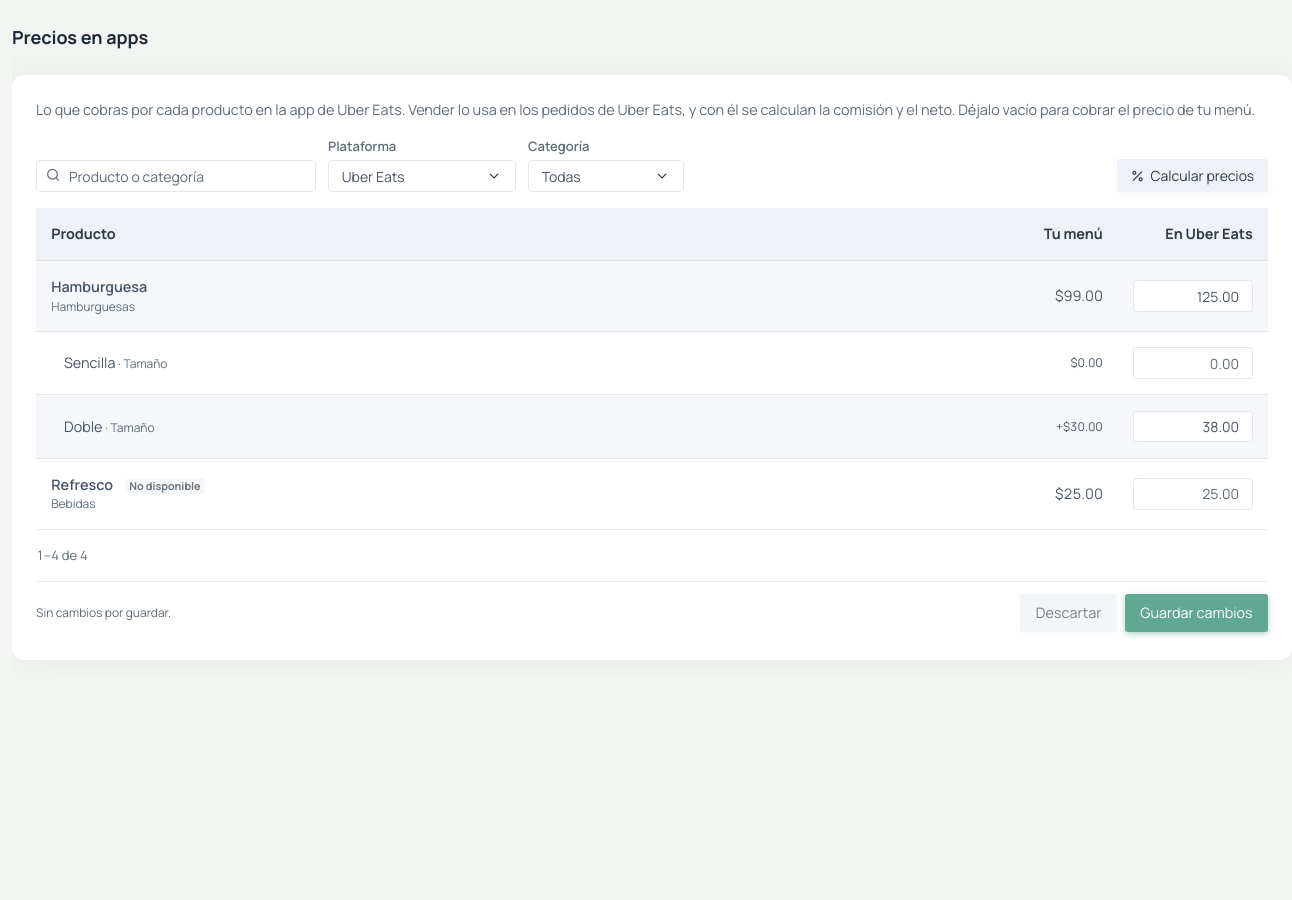
Test: PlatformPrices › discards the changes after asking
Type "32" into the field named "Precio de Refresco en Uber Eats" at (1193, 494), box [1133,478,1253,510]
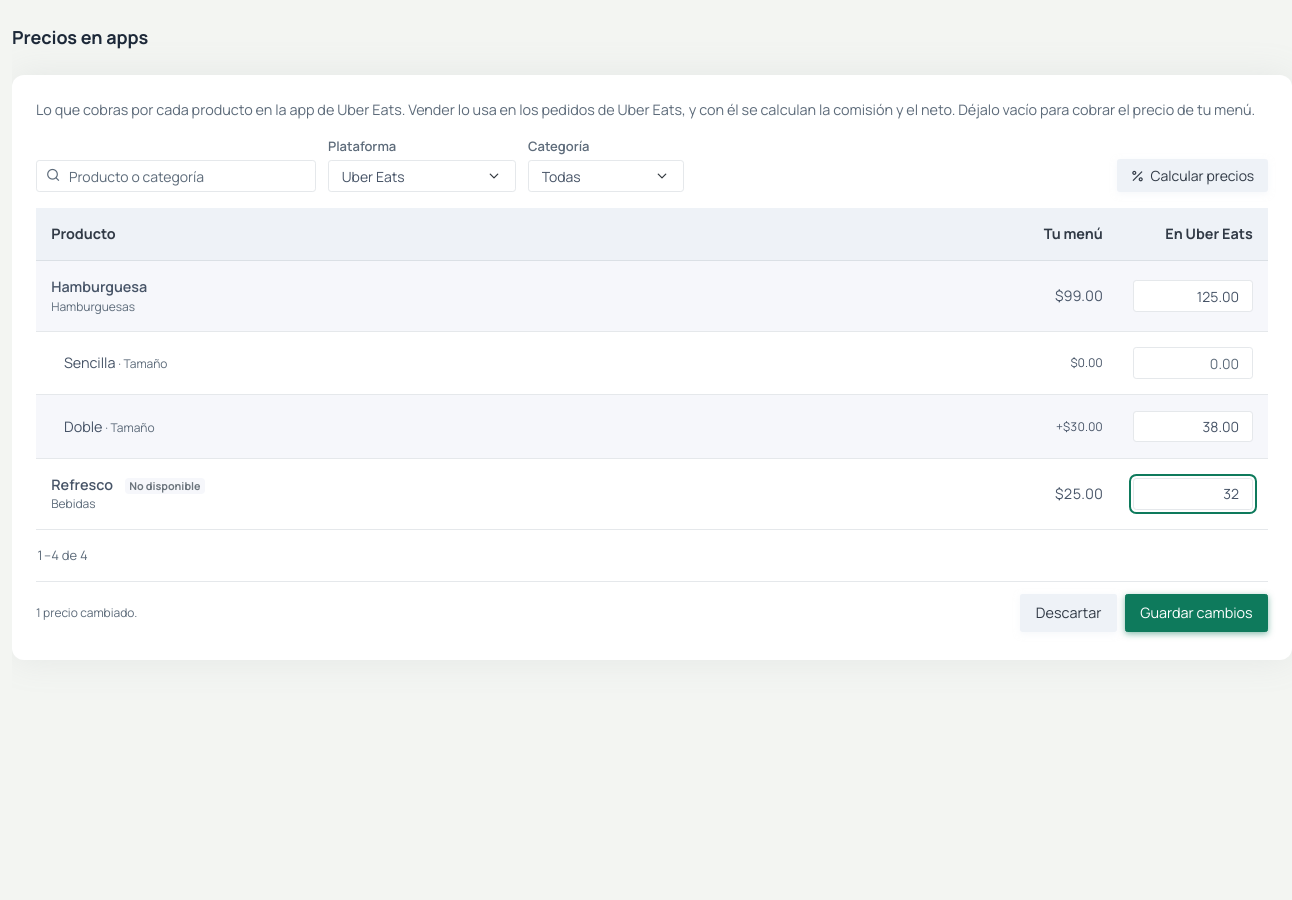
Click the button "Descartar" at (1069, 613), box [1020,594,1117,632]
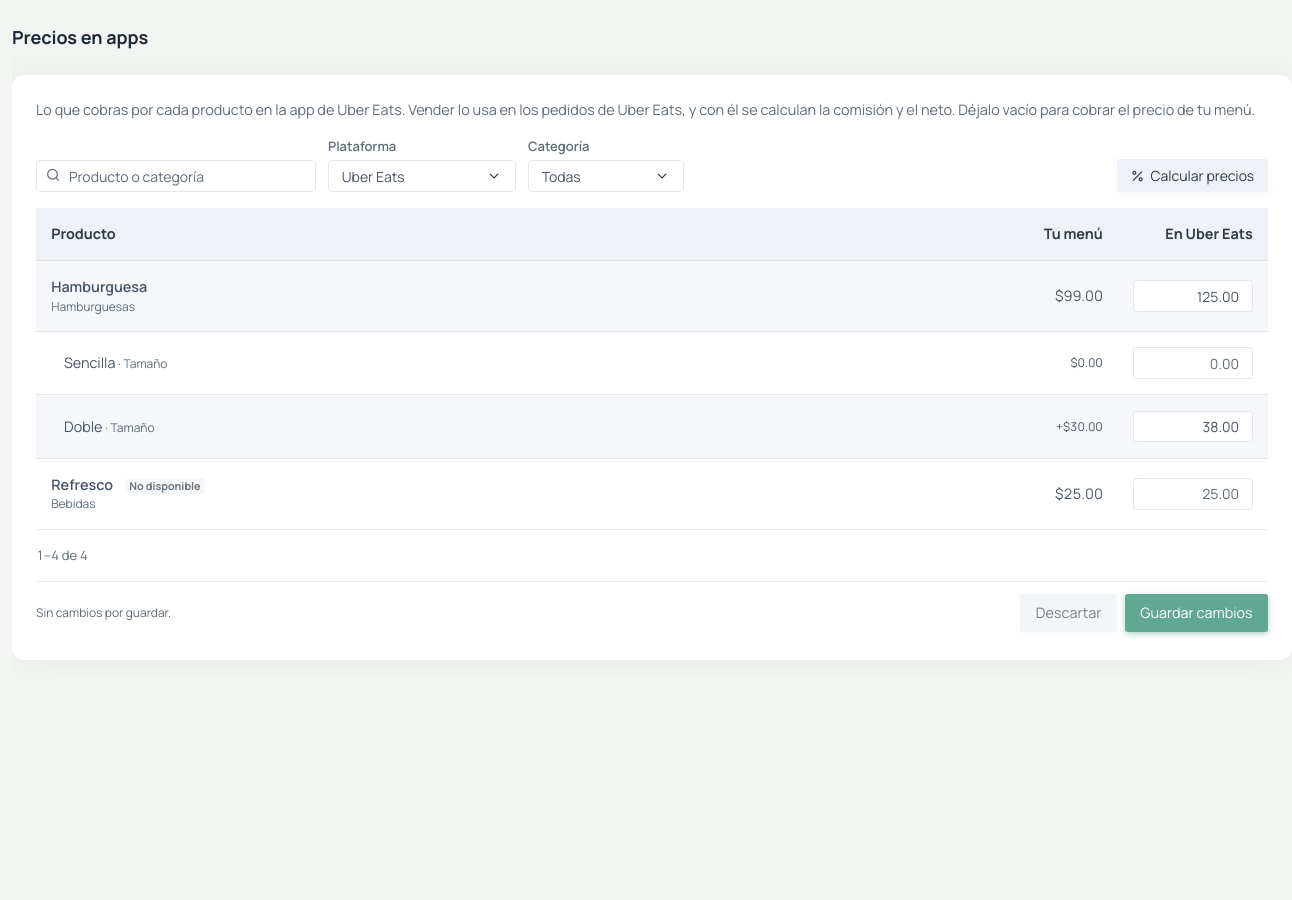
Expected: the field named "Precio de Refresco en Uber Eats" is empty, [1133,478,1253,510]
Expected: the text "Sin cambios por guardar." is shown, [36,604,171,622]
